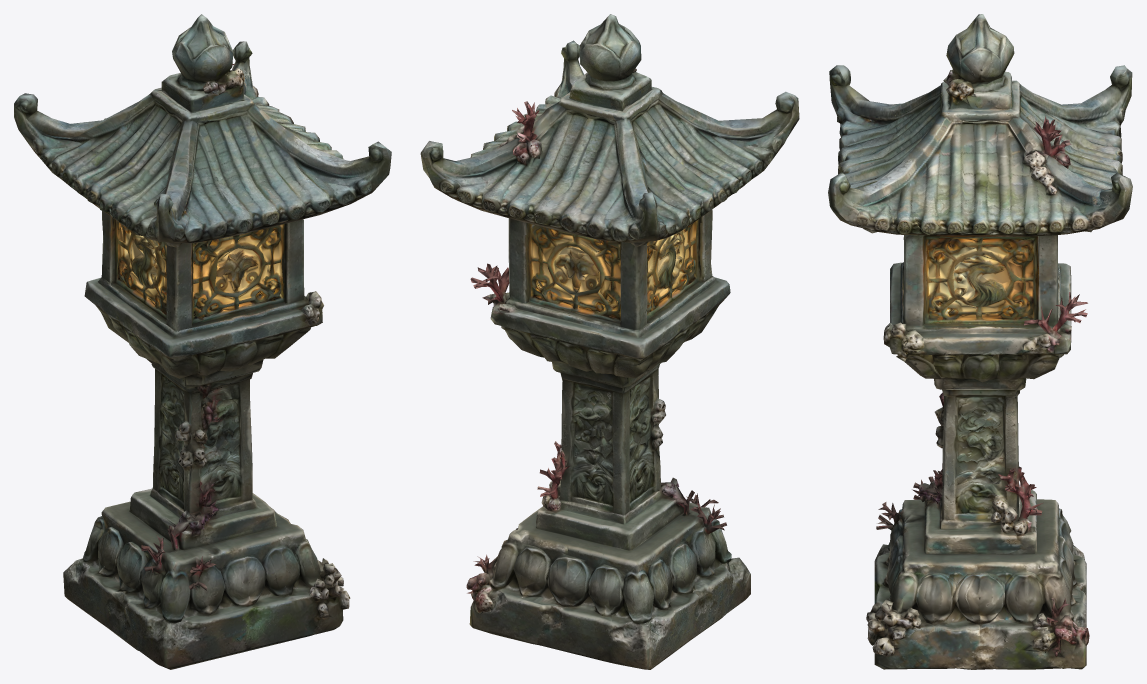
The model's file is T16_lantern_lo.glb.
The picture shows the model from 3 angles, left to right: view 1: azimuth 30°, elevation 25°; view 2: azimuth 150°, elevation 25°; view 3: azimuth 270°, elevation 25°; orthographic projection. The views are drawn at different scales.
Parts seen in each view (by area): view 1: tripo_node_d413df2d-0754-463f-a5dd-9ba359512fff; view 2: tripo_node_d413df2d-0754-463f-a5dd-9ba359512fff; view 3: tripo_node_d413df2d-0754-463f-a5dd-9ba359512fff.
Part boxes in pixels (left/top/right/bottom): tripo_node_d413df2d-0754-463f-a5dd-9ba359512fff: left=14, top=14, right=391, bottom=669; tripo_node_d413df2d-0754-463f-a5dd-9ba359512fff: left=420, top=14, right=799, bottom=669; tripo_node_d413df2d-0754-463f-a5dd-9ba359512fff: left=828, top=14, right=1132, bottom=669.
Size of the model in its own units: 0.3998 by 0.9773 by 0.4416.
1 material, 1 textured.
